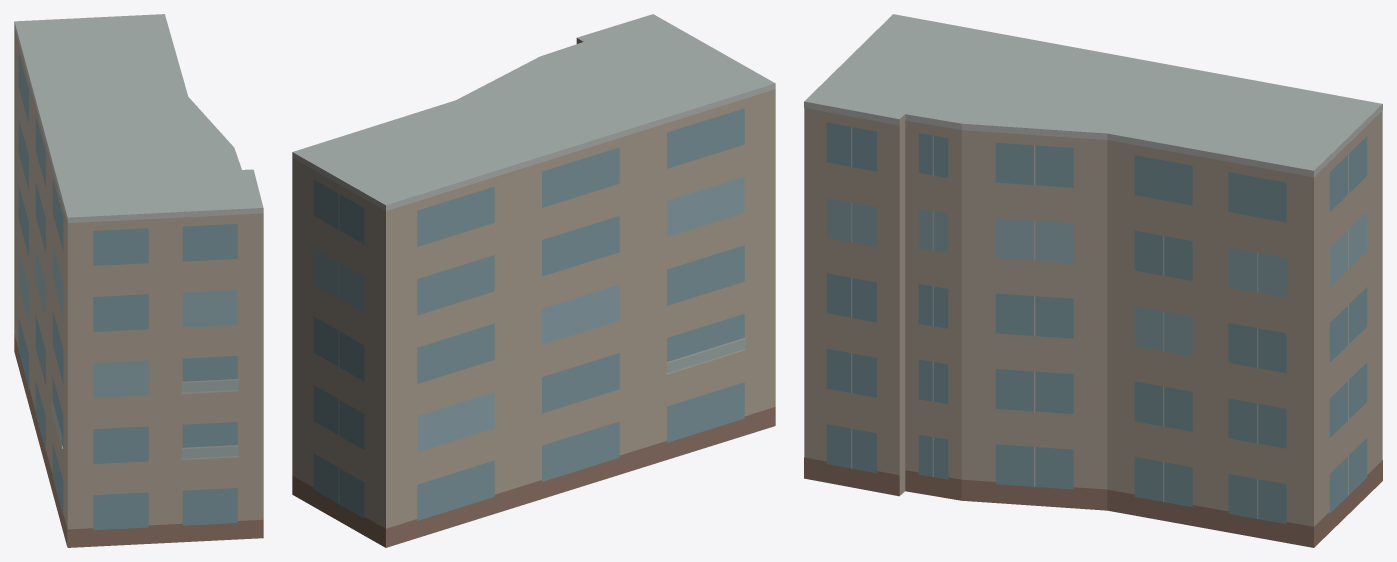
File: survey-upis-32970034.glb
3 renders of one model, left to right at view 1: azimuth 30°, elevation 25°; view 2: azimuth 150°, elevation 25°; view 3: azimuth 270°, elevation 25°, orthographic. The views are drawn at different scales.
Visible parts, largest first — view 1: survey-upis-32970034.tmp; view 2: survey-upis-32970034.tmp; view 3: survey-upis-32970034.tmp.
Part boxes in pixels (left/top/right/bottom): survey-upis-32970034.tmp: left=14, top=14, right=263, bottom=547; survey-upis-32970034.tmp: left=292, top=14, right=775, bottom=547; survey-upis-32970034.tmp: left=804, top=14, right=1382, bottom=547.
Bounding box in the file's own units: 12.77 × 14.3 × 19.9.
